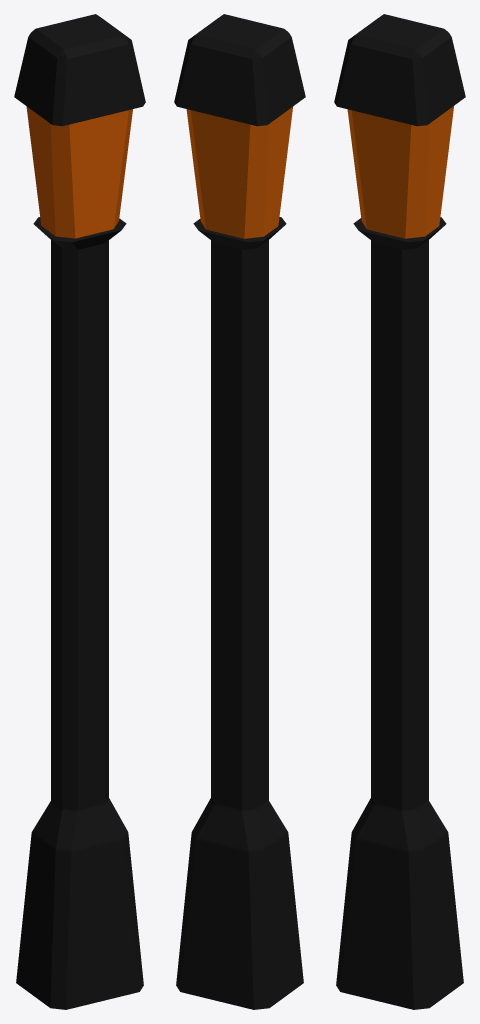
Rendered from LampPost.fbx.
3 renders of one model, left to right at view 1: azimuth 30°, elevation 25°; view 2: azimuth 150°, elevation 25°; view 3: azimuth 330°, elevation 25°, orthographic.
Visible parts, largest first — view 1: LampPost5; view 2: LampPost5; view 3: LampPost5.
Boxes of the visible parts, x1=… form: LampPost5: x1=14, y1=14, x2=145, y2=1009; LampPost5: x1=174, y1=14, x2=305, y2=1009; LampPost5: x1=334, y1=14, x2=465, y2=1009.
Size of the model in its own units: 142 by 1383 by 120.
